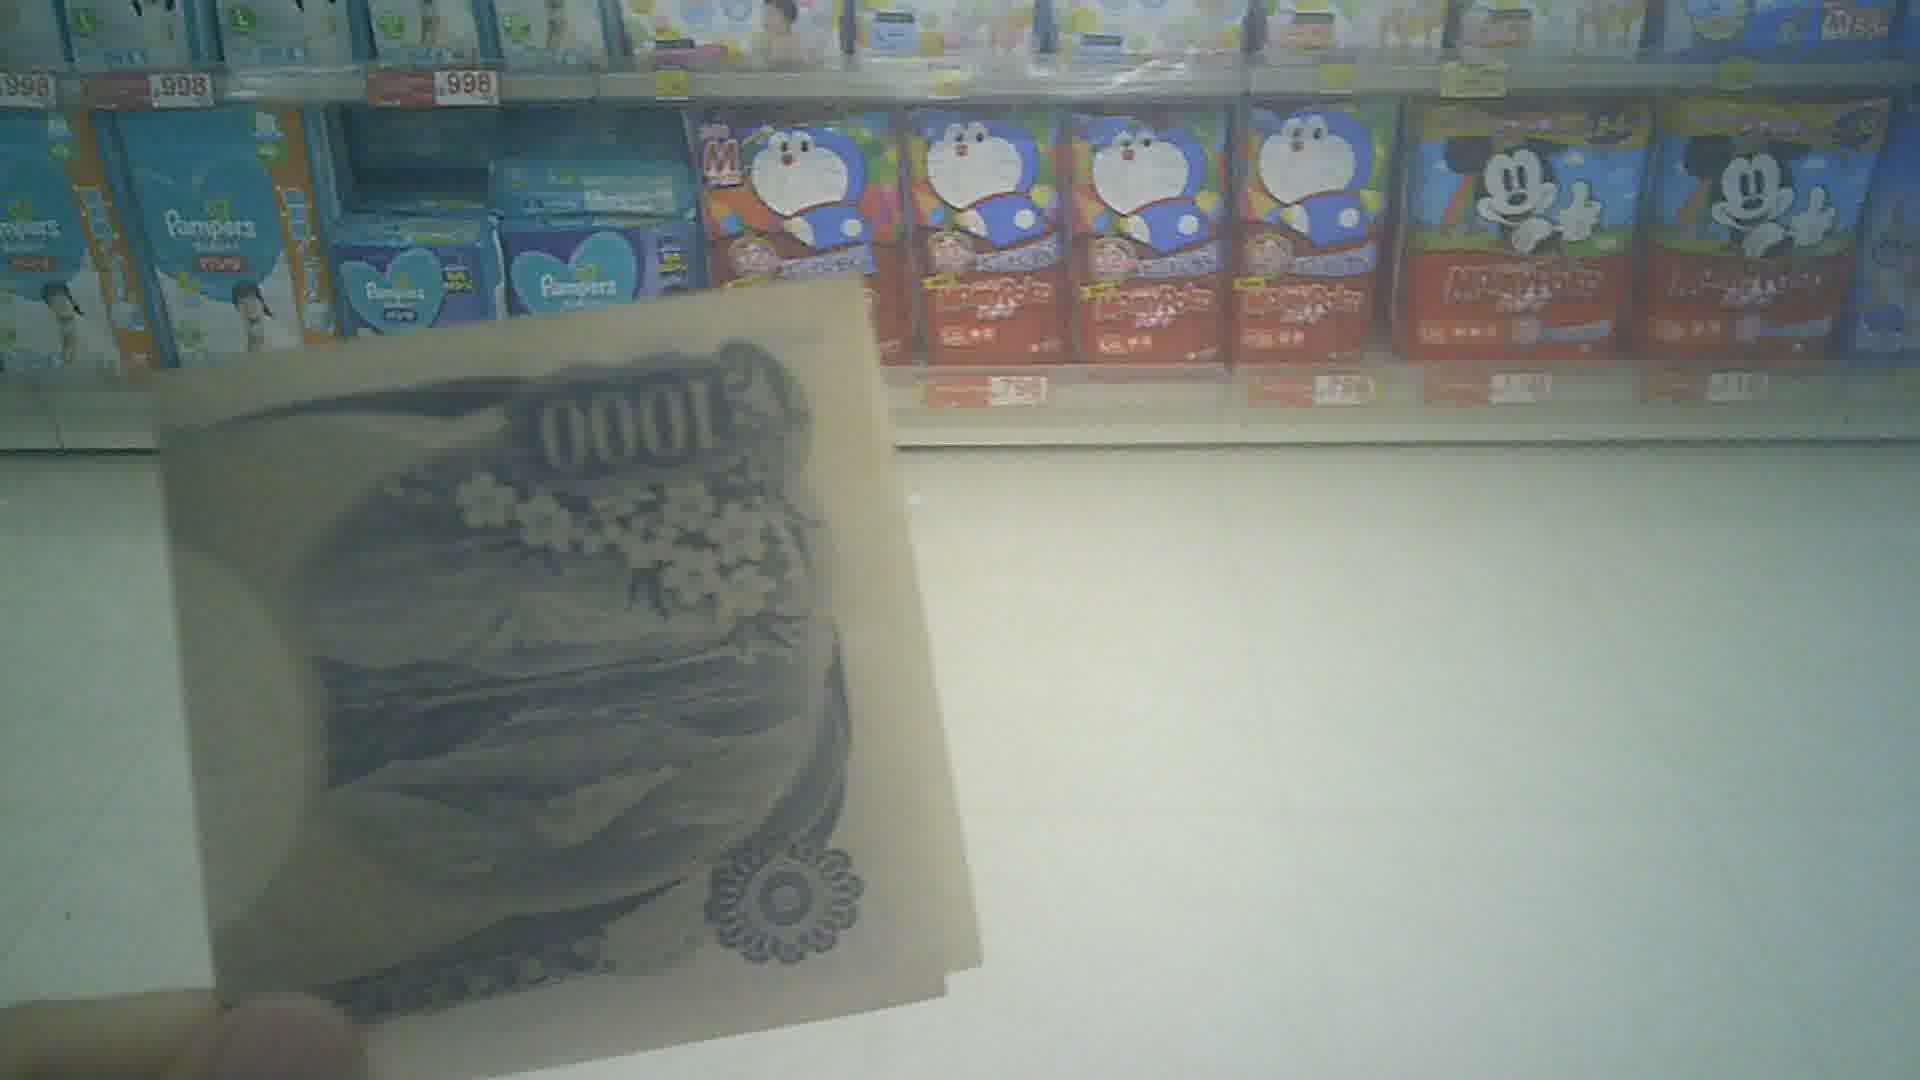1,000 Yen: (146, 291, 1025, 1039)
